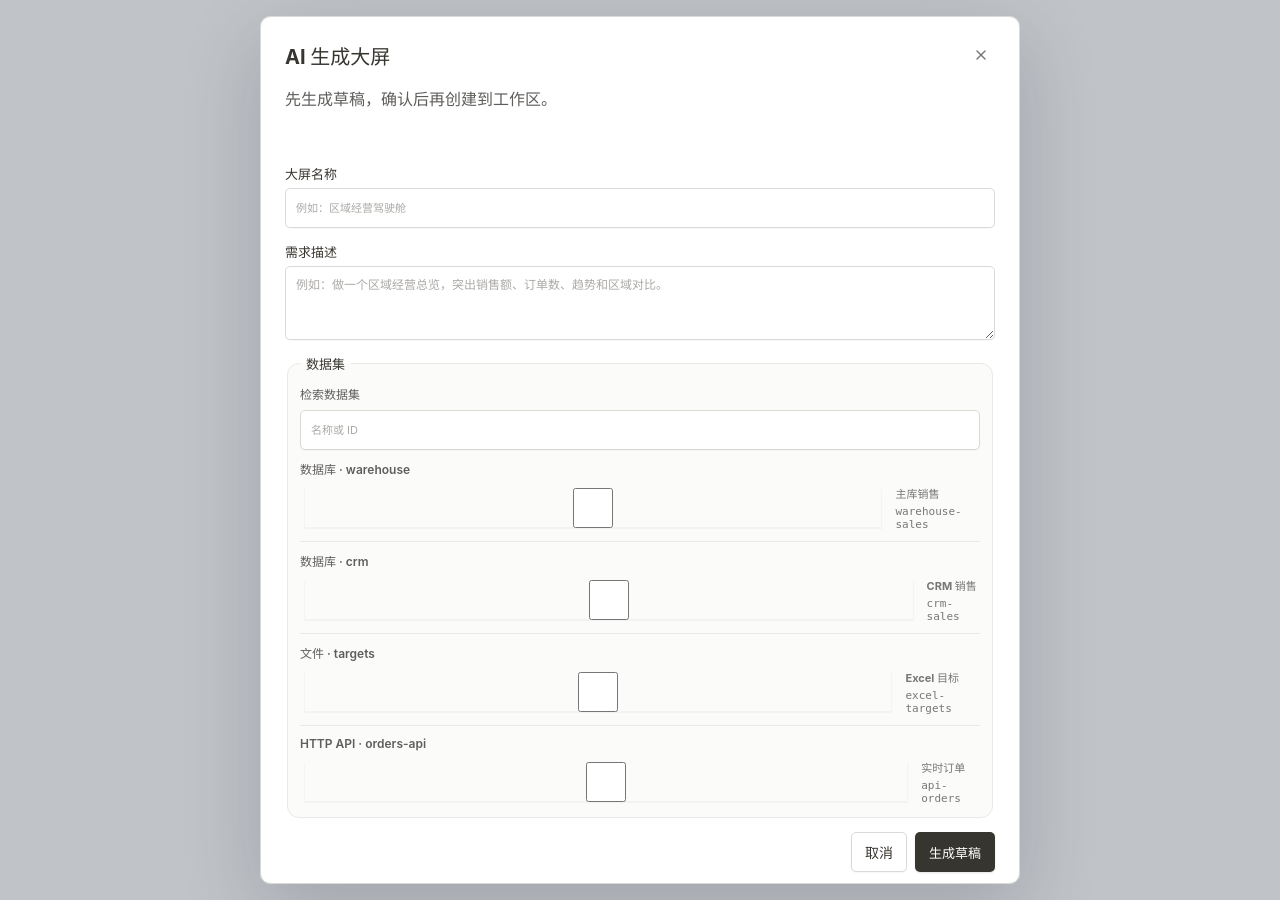
Test: groups multi-source datasets and filters them by name or id
This screenshot has width=1280, height=900.
Check: the element showing "数据库 · warehouse 主库销售 warehouse-sales" is shown, box [300,460,980,531]
Check: the element showing "数据库 · crm CRM 销售 crm-sales" is shown, box [300,541,980,623]
In the search field named "aiScreenDatasetSearch": (640, 430) [300,410,980,450], type "warehouse"
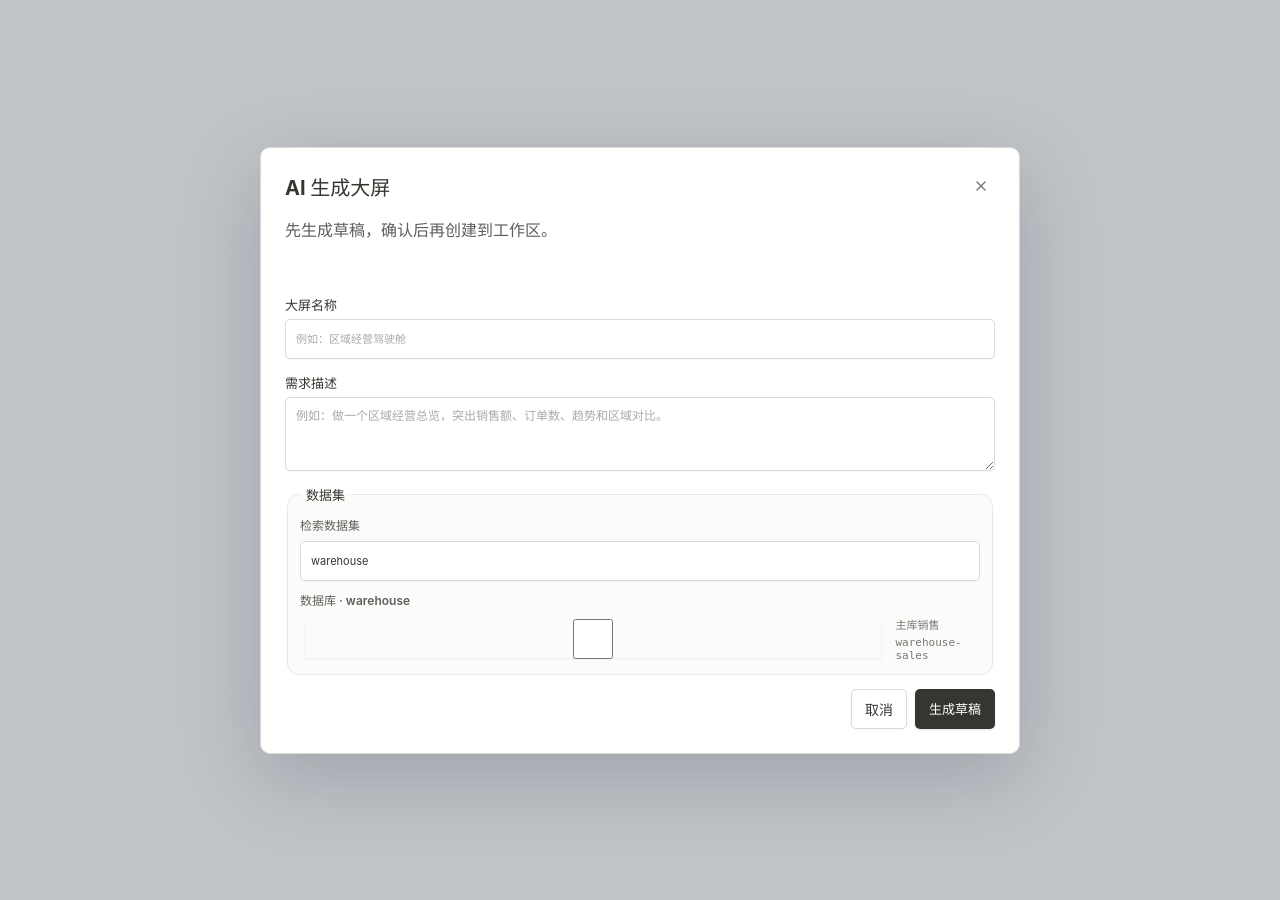
Check: the label "主库销售 warehouse-sales" is shown, box [300,616,980,662]
Replace the text in the search field named "aiScreenDatasetSearch" with "api-orders": (640, 560) [300,540,980,580]
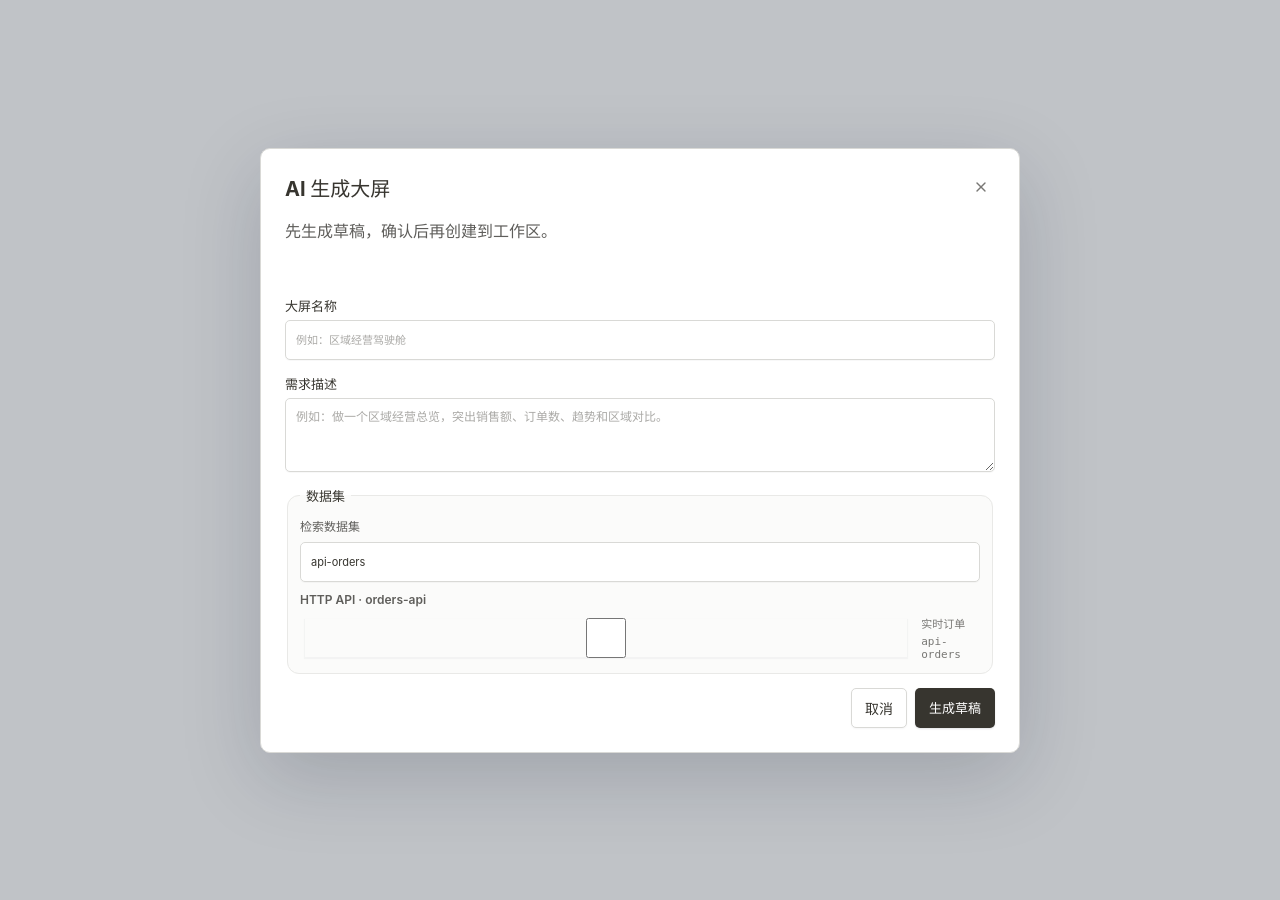
Check: the label "实时订单 api-orders" is shown, box [300,614,980,660]
